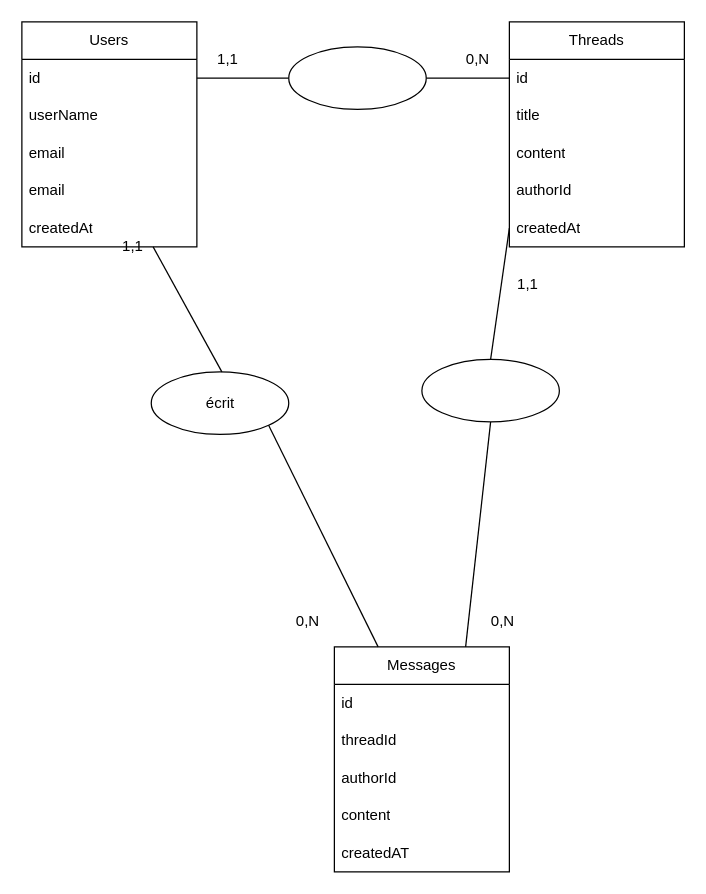
The diagram is 706 pixels wide and 894 high, and some of its shapes have lost their labels. The shapes that lost their labels are listed below. From the top down, each one's centre as x and y in pixels, then its label:
the point at 357,77: Créé
the point at 490,390: contient
